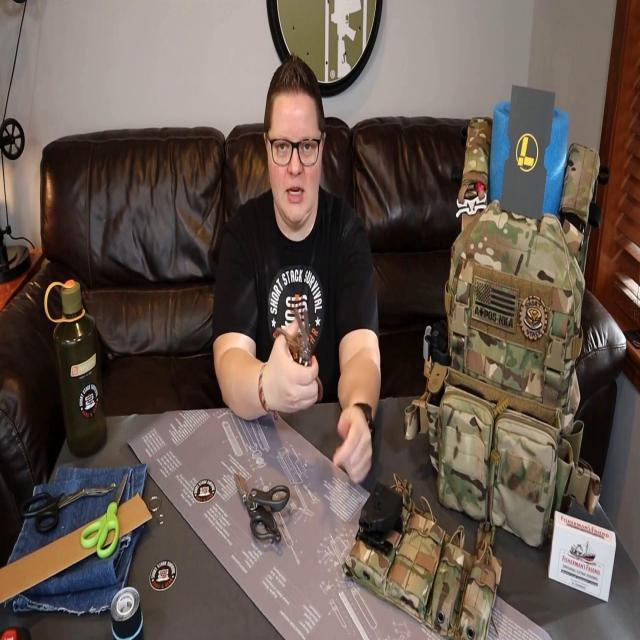scissor: (19, 480, 116, 536), (274, 303, 323, 403), (79, 470, 127, 558), (234, 471, 290, 544)
